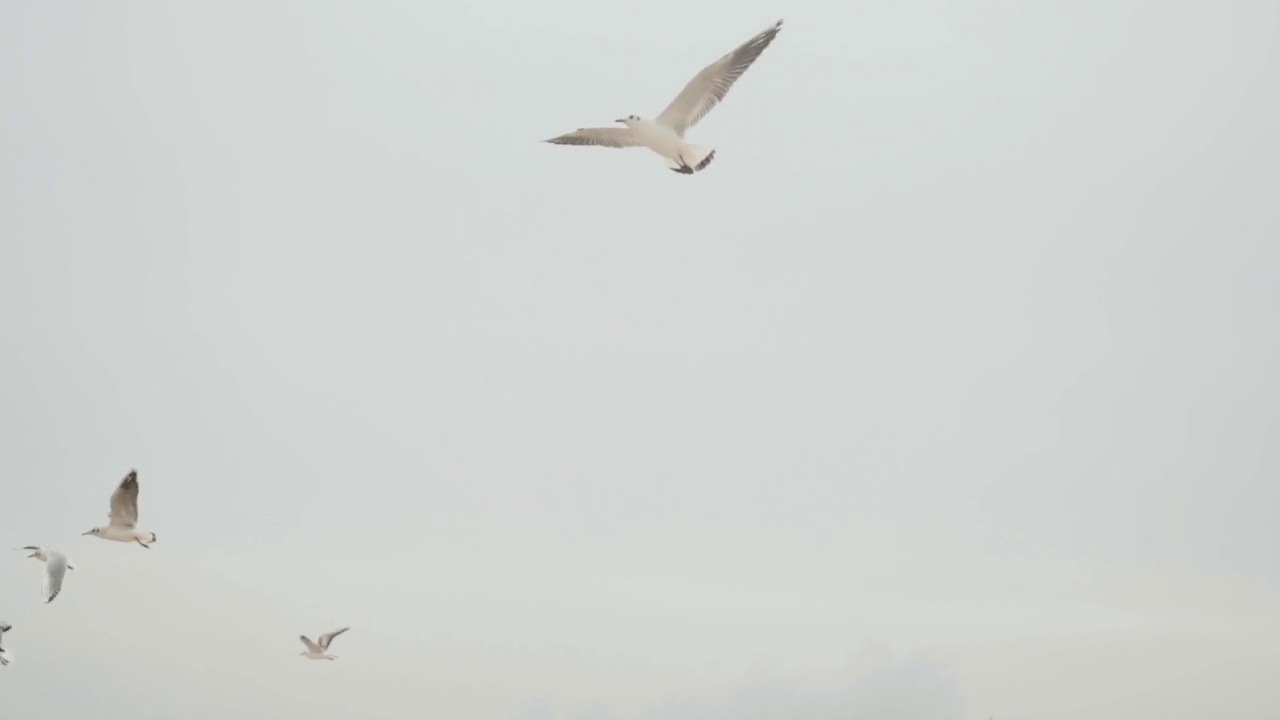bird: (544, 17, 782, 176), (81, 473, 156, 550), (12, 544, 75, 603), (295, 627, 350, 661)
